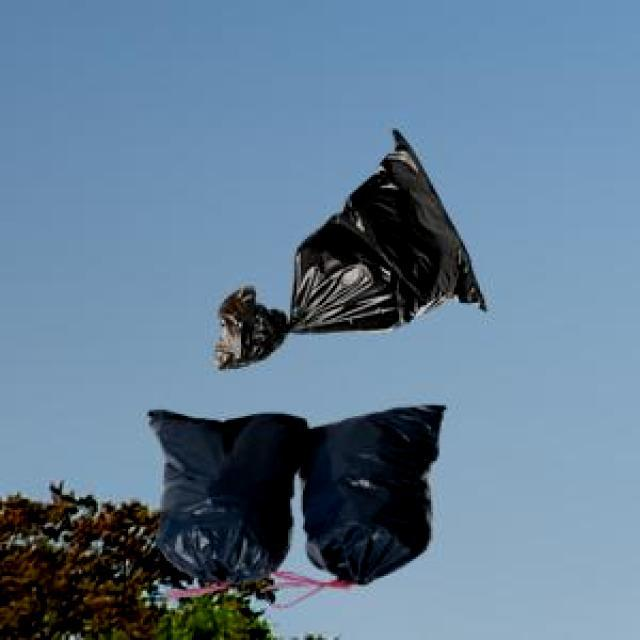Trashbag: (208, 121, 490, 376), (144, 407, 312, 598), (296, 402, 452, 588)
